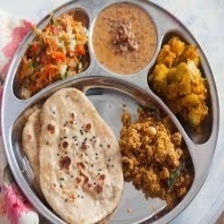roti: (21, 92, 121, 224)
